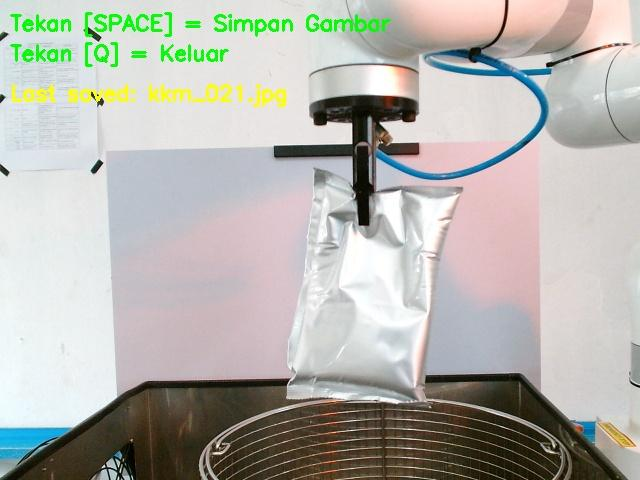retort-pouch: (281, 168, 459, 405)
